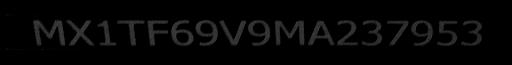letter: (29, 16, 69, 49), (270, 17, 306, 48), (66, 14, 96, 49), (115, 17, 147, 48), (217, 16, 247, 47), (458, 17, 486, 48), (331, 18, 359, 47), (306, 19, 334, 48), (146, 16, 172, 47), (246, 16, 272, 47), (358, 17, 384, 48), (383, 17, 409, 48), (172, 17, 196, 48), (410, 17, 434, 48), (94, 17, 118, 48), (435, 17, 459, 48), (194, 18, 218, 49)
